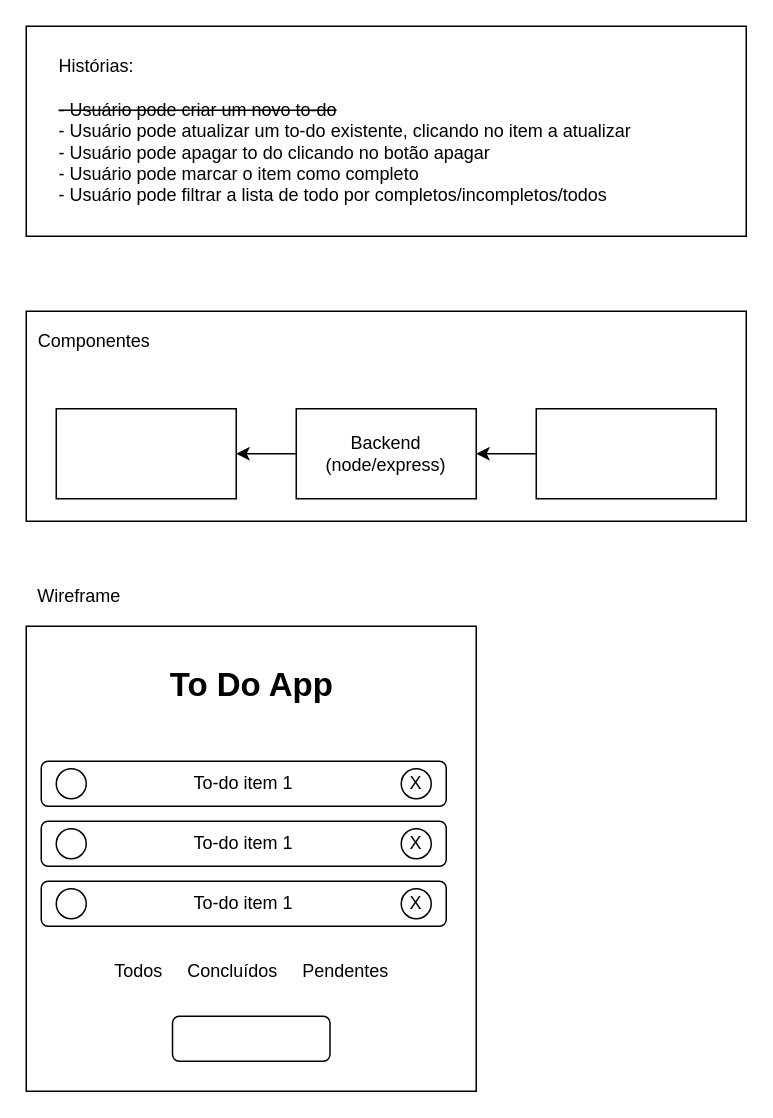
Some shapes in this 773 by 1118 pixel diagram are drawn without their labels. Each missing label, with the centre of its shape:
"Add Novo" belongs at (x=250, y=1038).
"Banco de Dados (MongoDB)" belongs at (x=625, y=453).
"Front (react)" belongs at (x=145, y=453).
